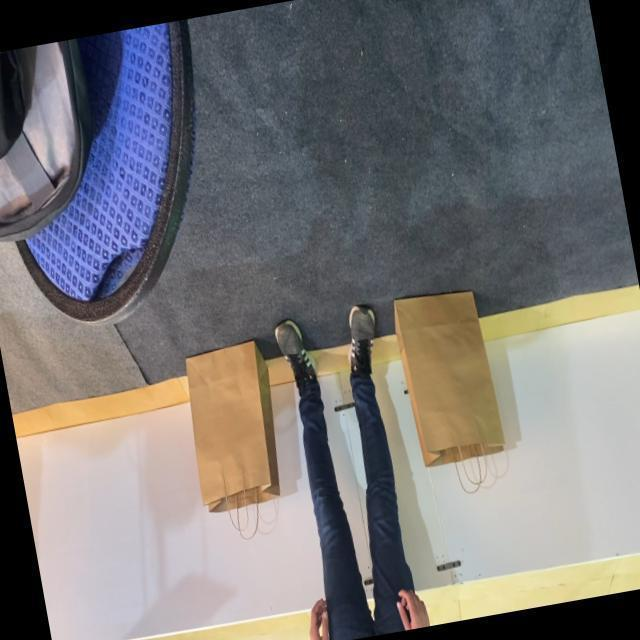Paper_Bag: (390, 285, 512, 502), (176, 338, 296, 546)
